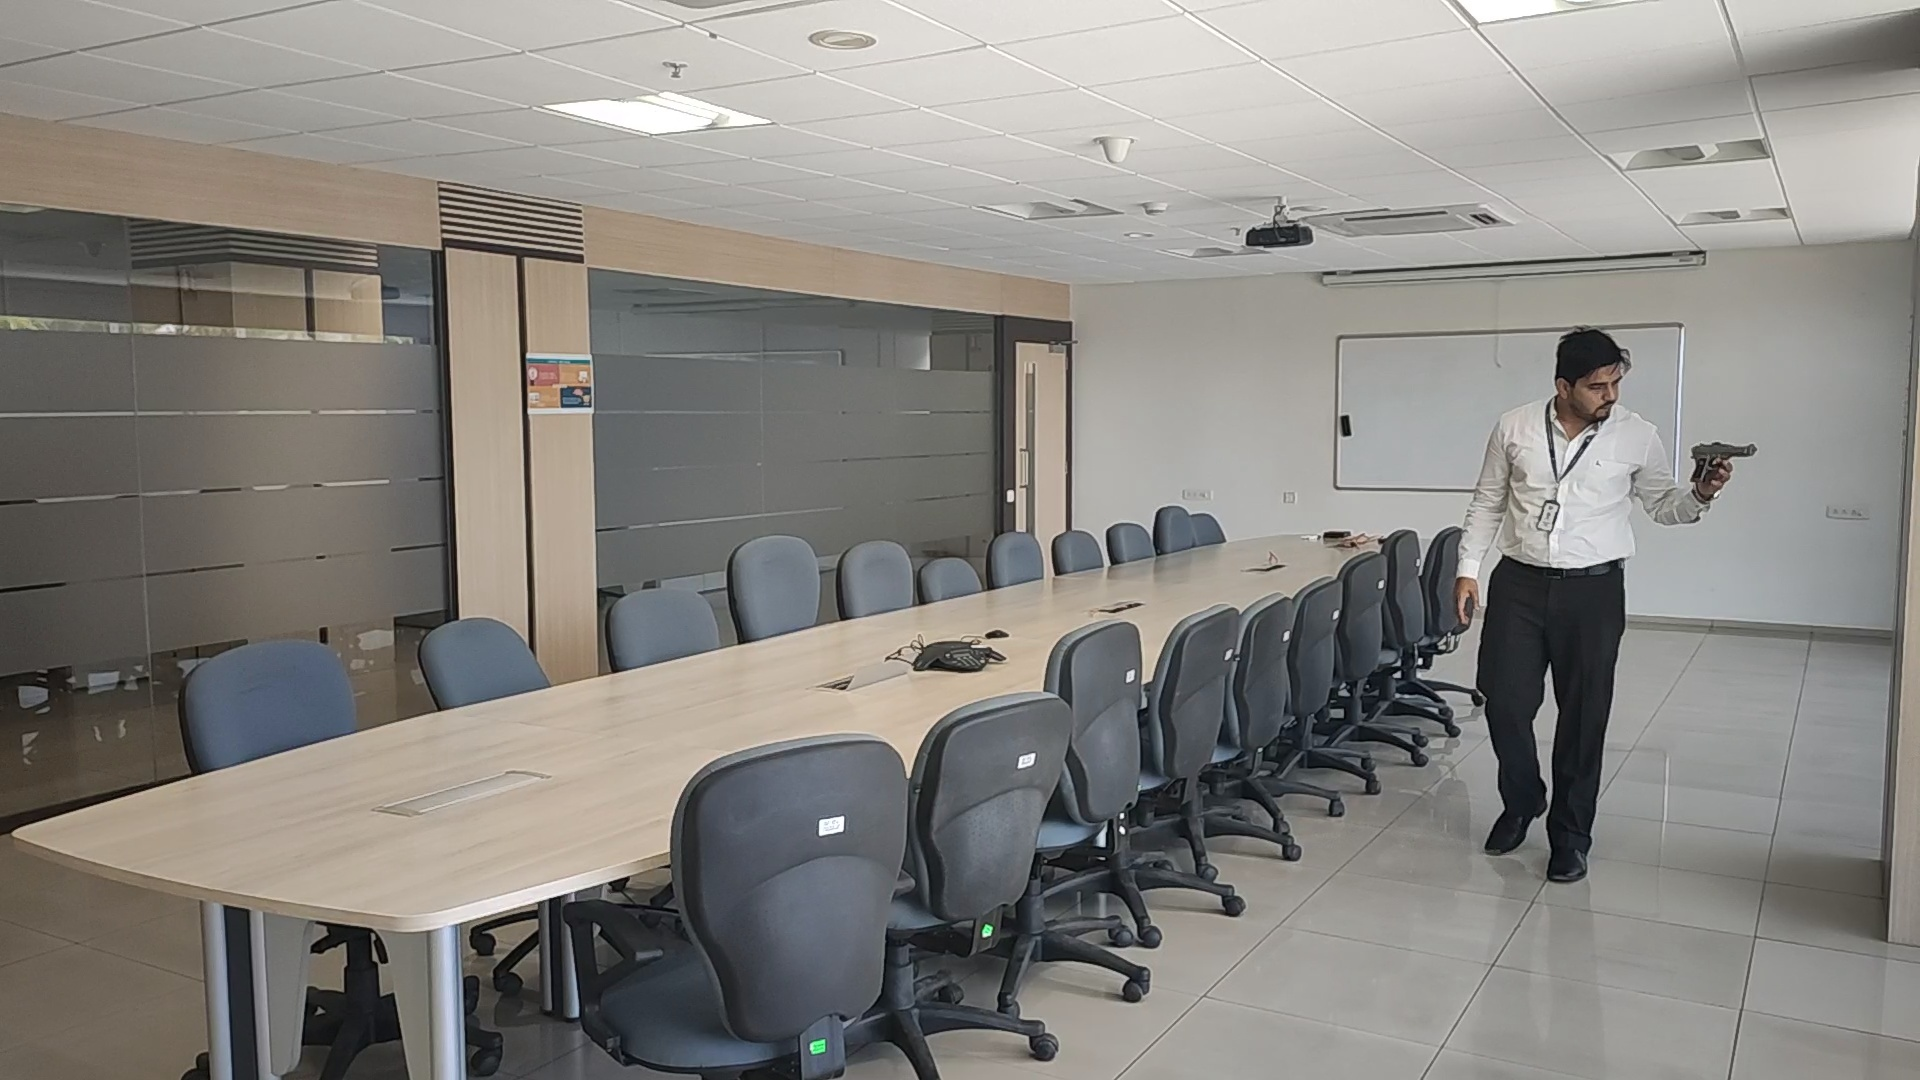gun: (1691, 440, 1756, 462)
